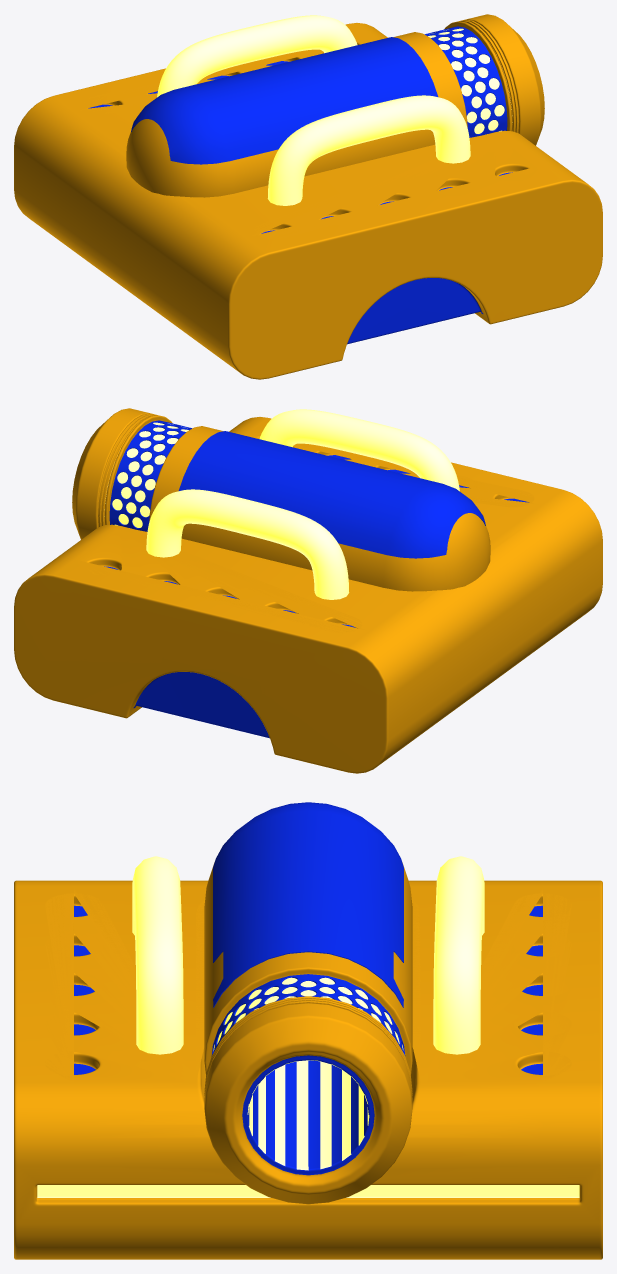
File: Fruit Tank.fbx
3 views of the same model, one above another, from view 1: azimuth 30°, elevation 25°; view 2: azimuth 150°, elevation 25°; view 3: azimuth 270°, elevation 25° (orthographic). The views are drawn at different scales.
Visible parts, largest first — view 1: Cube, Slice, Cylinder, Curve, Cylinder_Plate; view 2: Cube, Slice, Cylinder, Curve, Cylinder_Plate; view 3: Cube, Cylinder, Slice, Curve, Cylinder_Plate.
Boxes of the visible parts, x1,y1,x2,y2 form: Cube: [14, 23, 602, 379]; Slice: [131, 37, 438, 164]; Cylinder: [126, 14, 544, 197]; Curve: [157, 15, 470, 205]; Cylinder_Plate: [424, 26, 507, 137]; Cube: [14, 417, 602, 773]; Slice: [178, 431, 485, 558]; Cylinder: [72, 408, 490, 591]; Curve: [146, 409, 459, 599]; Cylinder_Plate: [109, 420, 192, 531]; Cube: [14, 880, 602, 1259]; Cylinder: [204, 862, 412, 1204]; Slice: [213, 802, 403, 1007]; Curve: [132, 856, 484, 1054]; Cylinder_Plate: [211, 974, 405, 1055].
Bounding box in the file's own units: 210 × 101 × 200.
